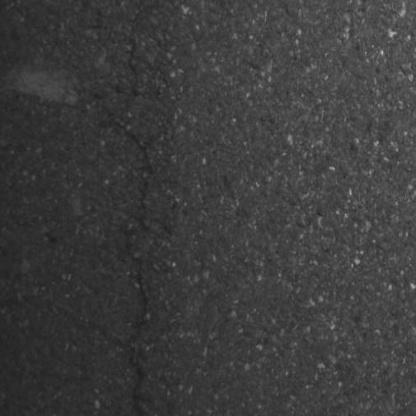Cracks: (94, 119, 158, 235), (126, 254, 154, 416)
